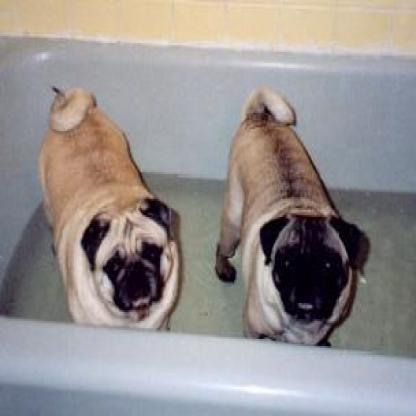pug: (210, 83, 366, 346), (36, 84, 180, 330)
